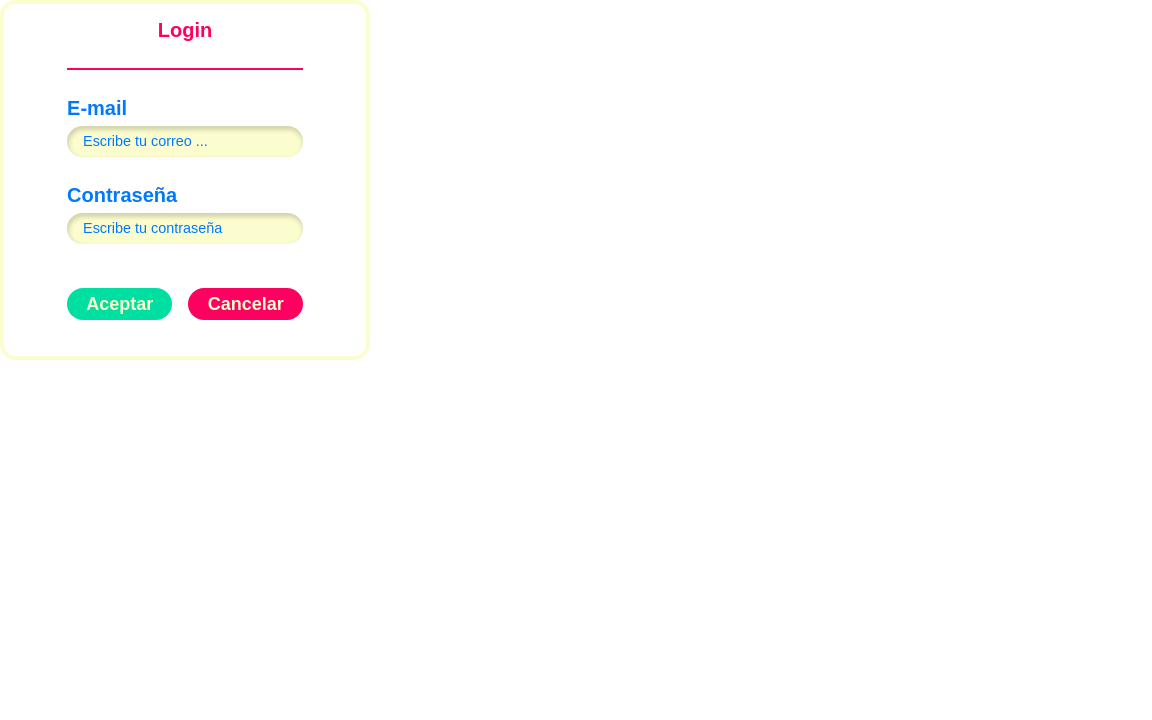
Test: Login Component Integration Test › Iniciar sesión con credenciales válidas
The width and height of the screenshot is (1152, 720).
In the field with placeholder "Escribe tu correo ...": (185, 142) 67,126 -> 303,157, type "correo@ejemplo.com"
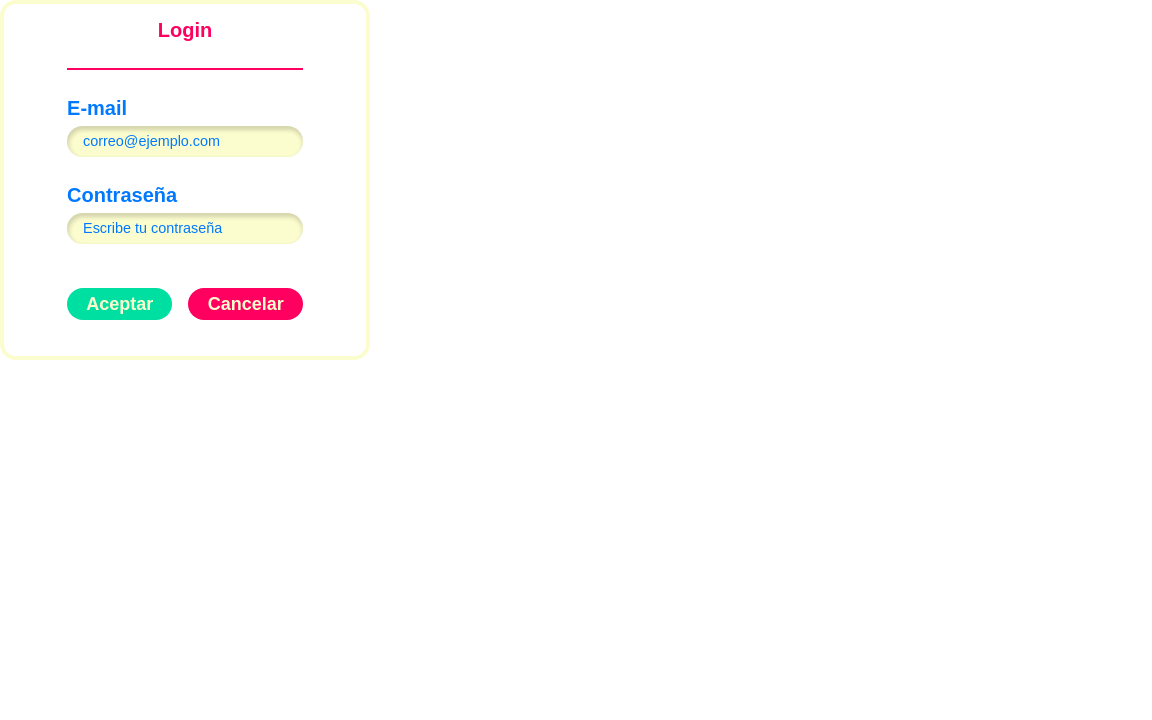
In the password field with placeholder "Escribe tu contraseña": (185, 229) 67,213 -> 303,244, type "contraseña123"
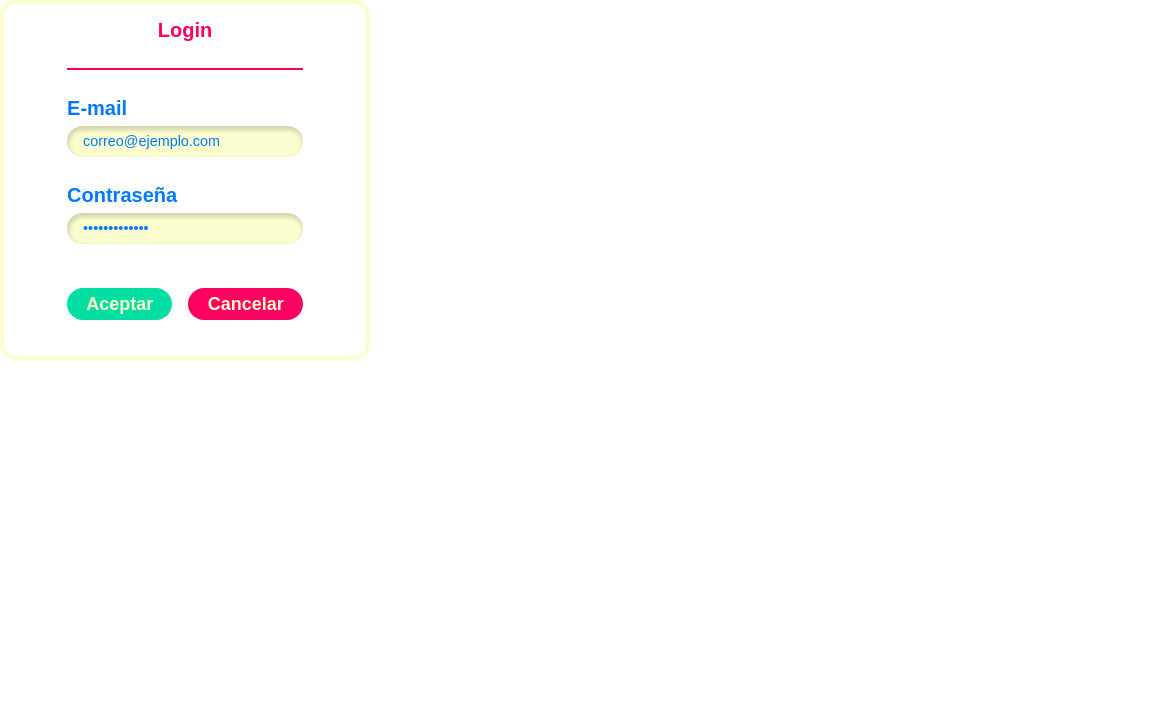
Click the button "Aceptar": (120, 304) 67,288 -> 172,320
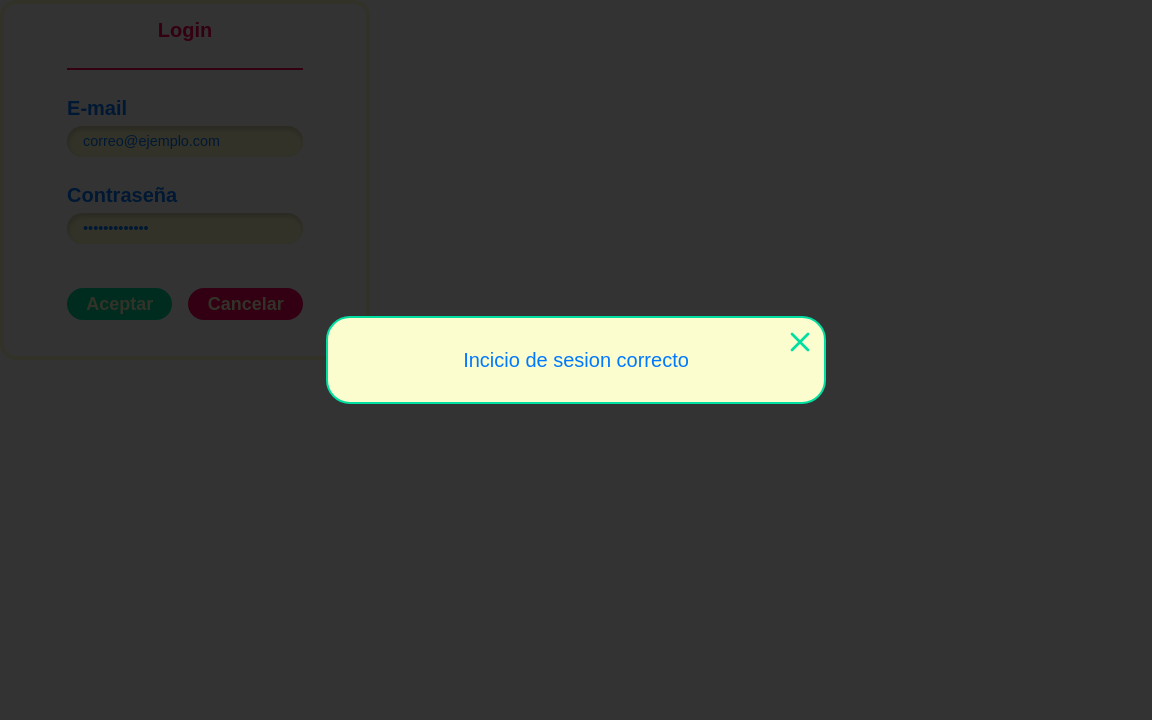
Expected: the heading "Incicio de sesion correcto" is shown, 459,342 -> 693,378
